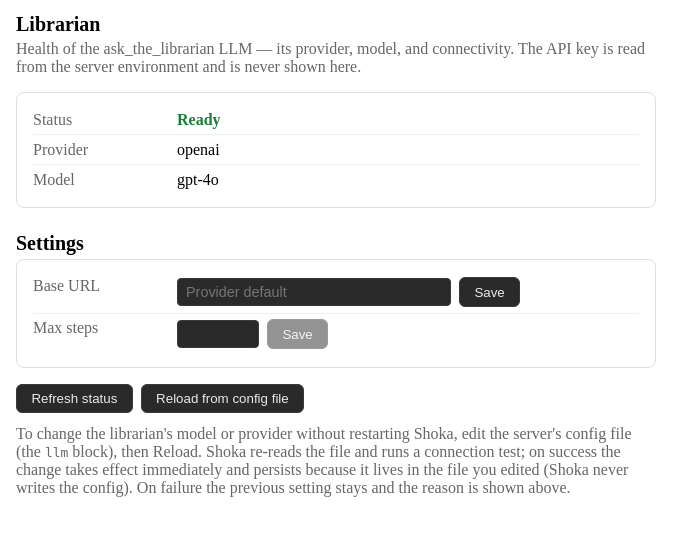
it: LibrarianStatusPage › keeps the previous status and shows the detail when a reload fails the connection test
Expected: the text with test id "librarian-kind" reads "Ready", [177,111,221,128]
Click the button with test id "librarian-reload": [222, 398] box [141,384,304,413]
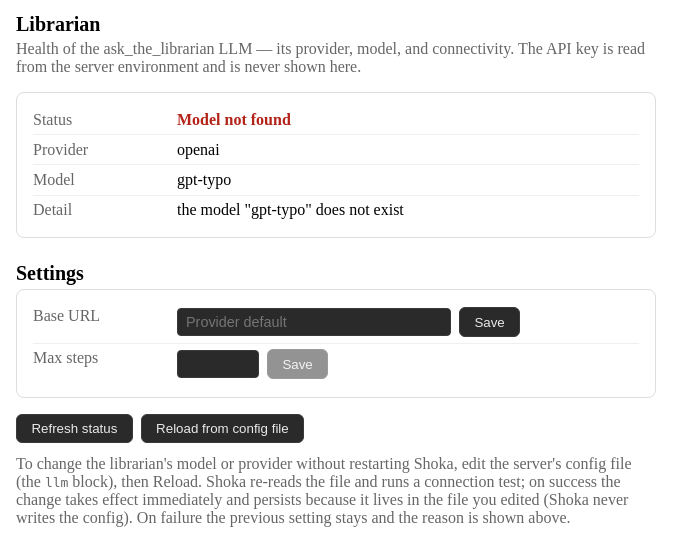
Expected: the text with test id "librarian-kind" reads "Model not found", [177,111,291,128]
Expected: the text with test id "librarian-detail" shows "does not exist", [177,201,404,218]
